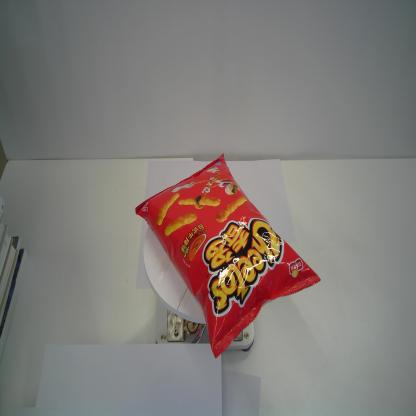Puffed Food: (134, 152, 322, 361)
